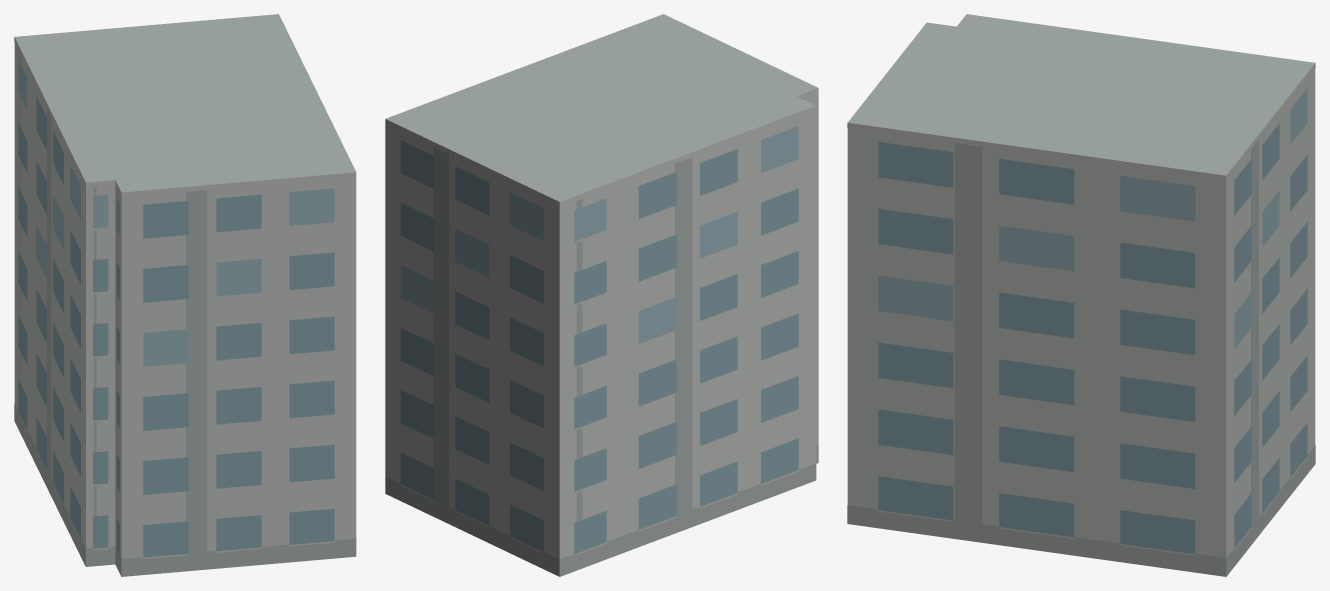
Rendered from survey-upis-32873727.glb.
3 renders of one model, left to right at view 1: azimuth 30°, elevation 25°; view 2: azimuth 150°, elevation 25°; view 3: azimuth 270°, elevation 25°, orthographic. The views are drawn at different scales.
Visible parts, largest first — view 1: survey-upis-32873727.tmp; view 2: survey-upis-32873727.tmp; view 3: survey-upis-32873727.tmp.
Part boxes in pixels (x1=…): survey-upis-32873727.tmp: x1=14, y1=14, x2=356, y2=576; survey-upis-32873727.tmp: x1=385, y1=14, x2=818, y2=576; survey-upis-32873727.tmp: x1=847, y1=14, x2=1315, y2=576.
Bounding box in the file's own units: 15.82 × 18.3 × 19.35.
